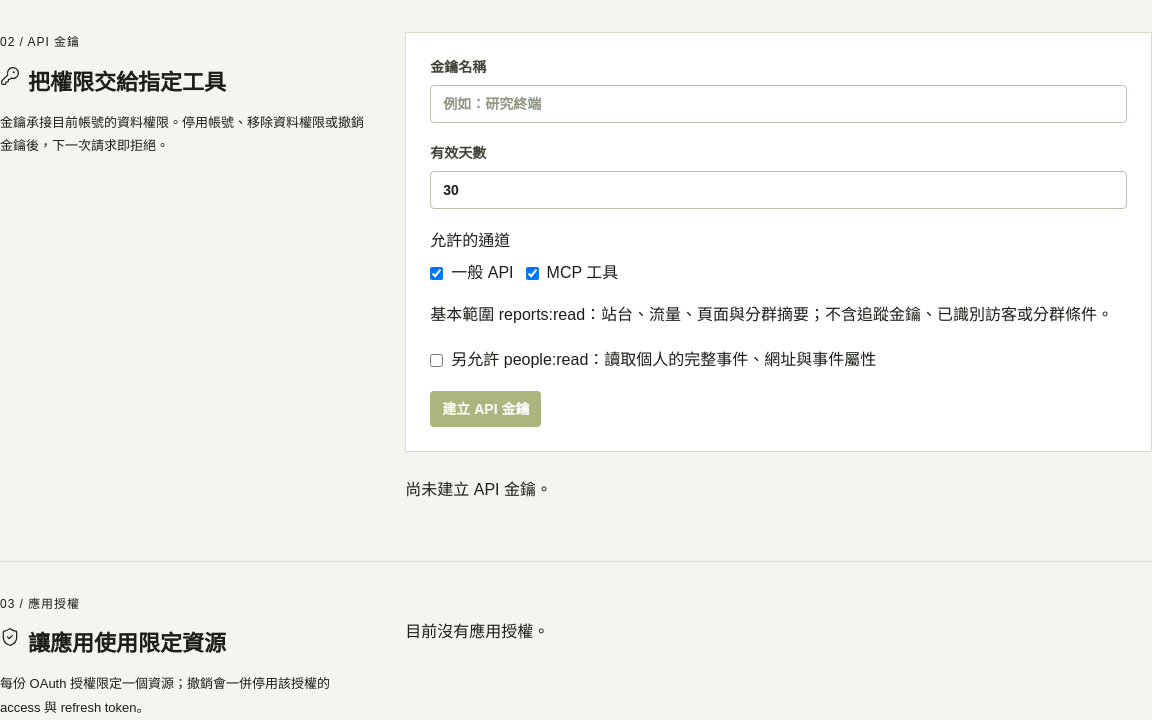
Test: personal event access is a separate explicit choice
The image size is (1152, 720).
(page scrolled)
Check: the field labelled "金鑰名稱" is shown, box [430, 85, 1127, 123]
Click the checkbox labelled "另允許 people:read：讀取個人的完整事件、網址與事件屬性": [437, 360] box [430, 354, 443, 367]
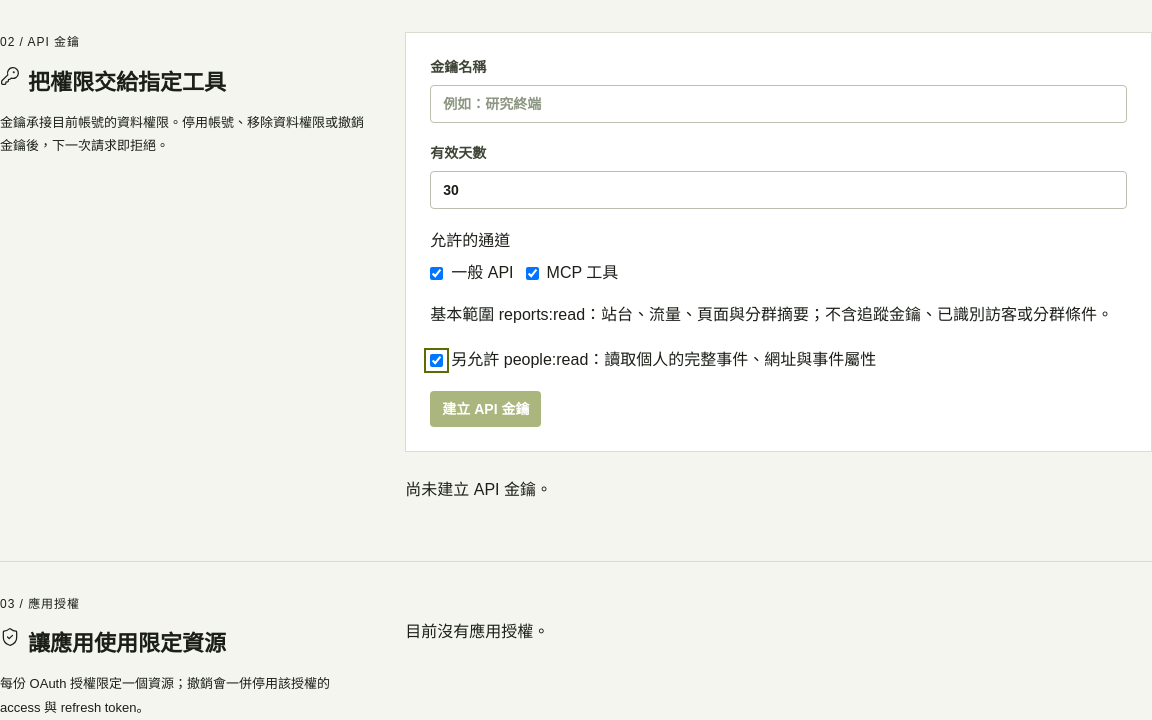
In the field labelled "金鑰名稱": [779, 104] box [430, 85, 1127, 123], type "個人事件工具"
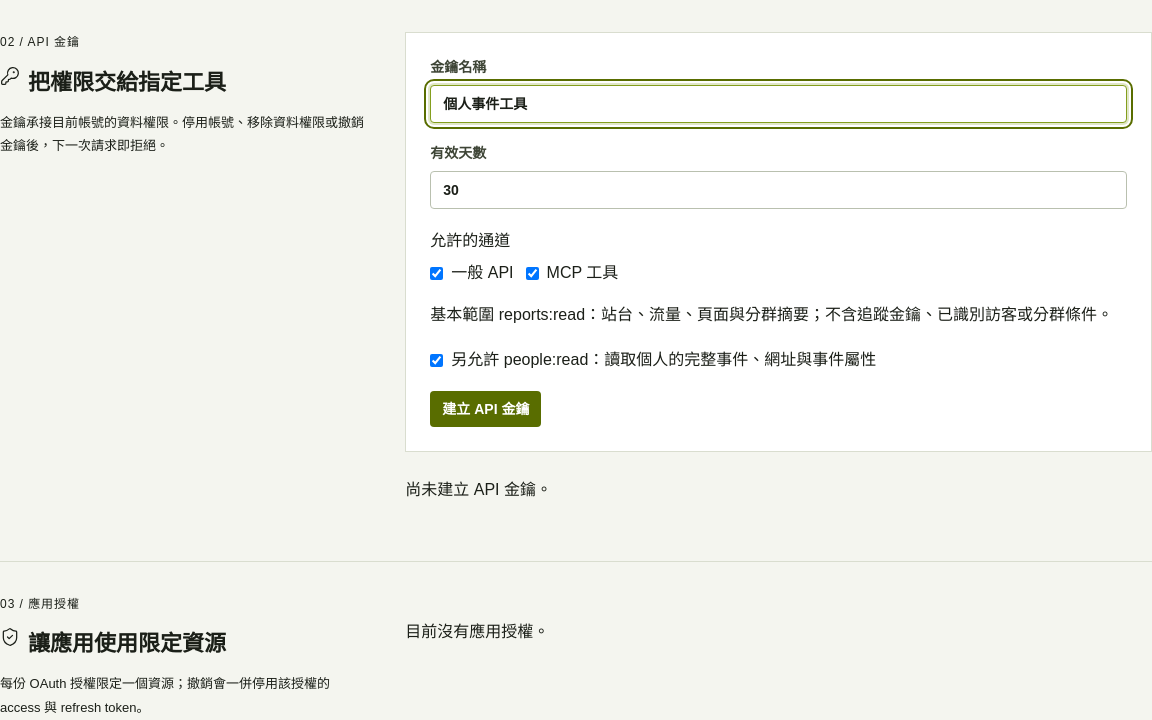
Click the button "建立 API 金鑰": [486, 409] box [430, 391, 541, 427]
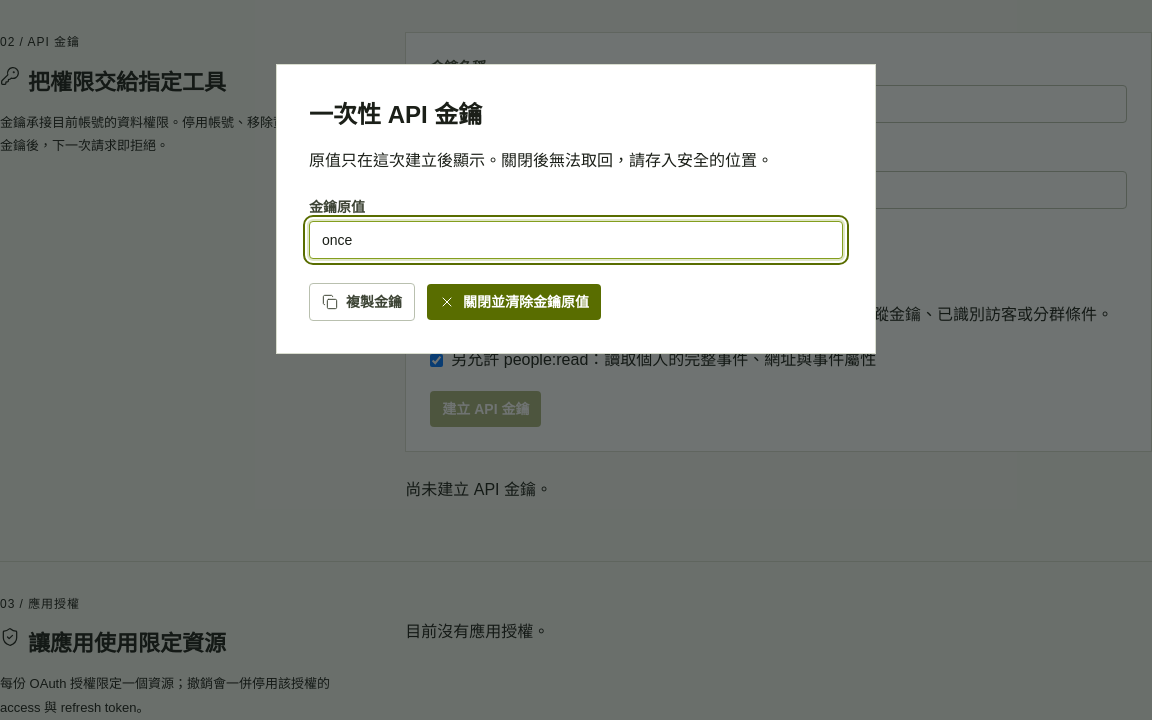
Check: the dialog is shown, box [276, 64, 876, 354]
